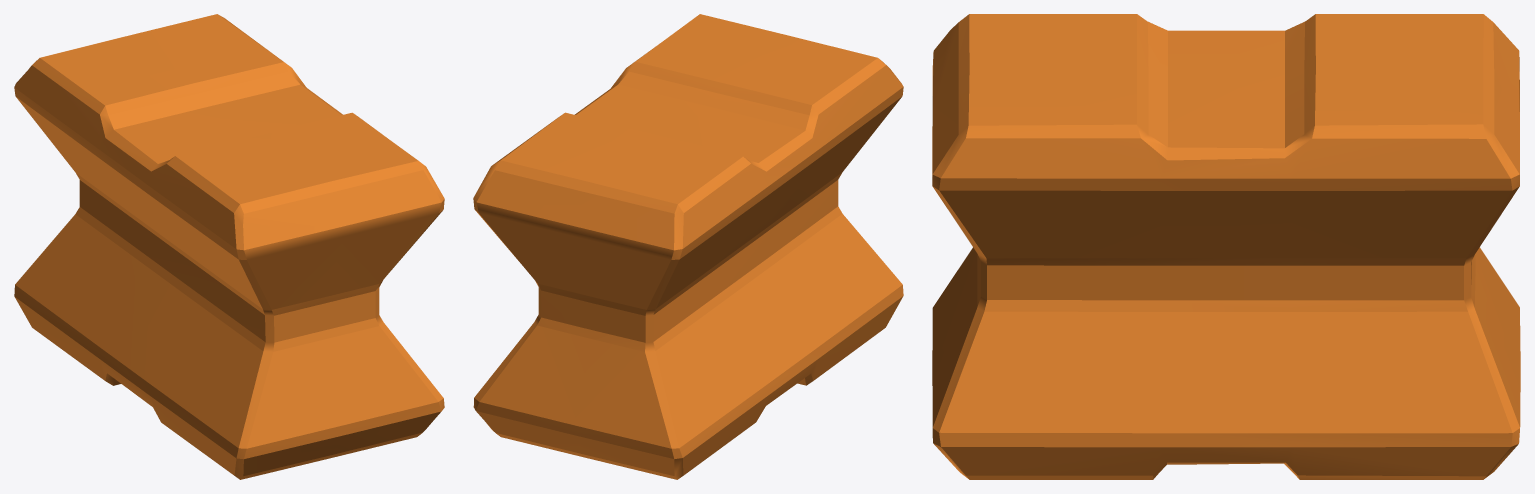
File: obj_casted_bigbar.fbx
3 renders of one model, left to right at view 1: azimuth 30°, elevation 25°; view 2: azimuth 150°, elevation 25°; view 3: azimuth 270°, elevation 25°, orthographic. The views are drawn at different scales.
Visible parts, largest first — view 1: Cube.013; view 2: Cube.013; view 3: Cube.013.
Boxes of the visible parts, bbox=[...] form: Cube.013: bbox=[14, 14, 444, 479]; Cube.013: bbox=[473, 14, 903, 479]; Cube.013: bbox=[932, 14, 1520, 479].
Size of the model in its own units: 3.17 by 4 by 6.
